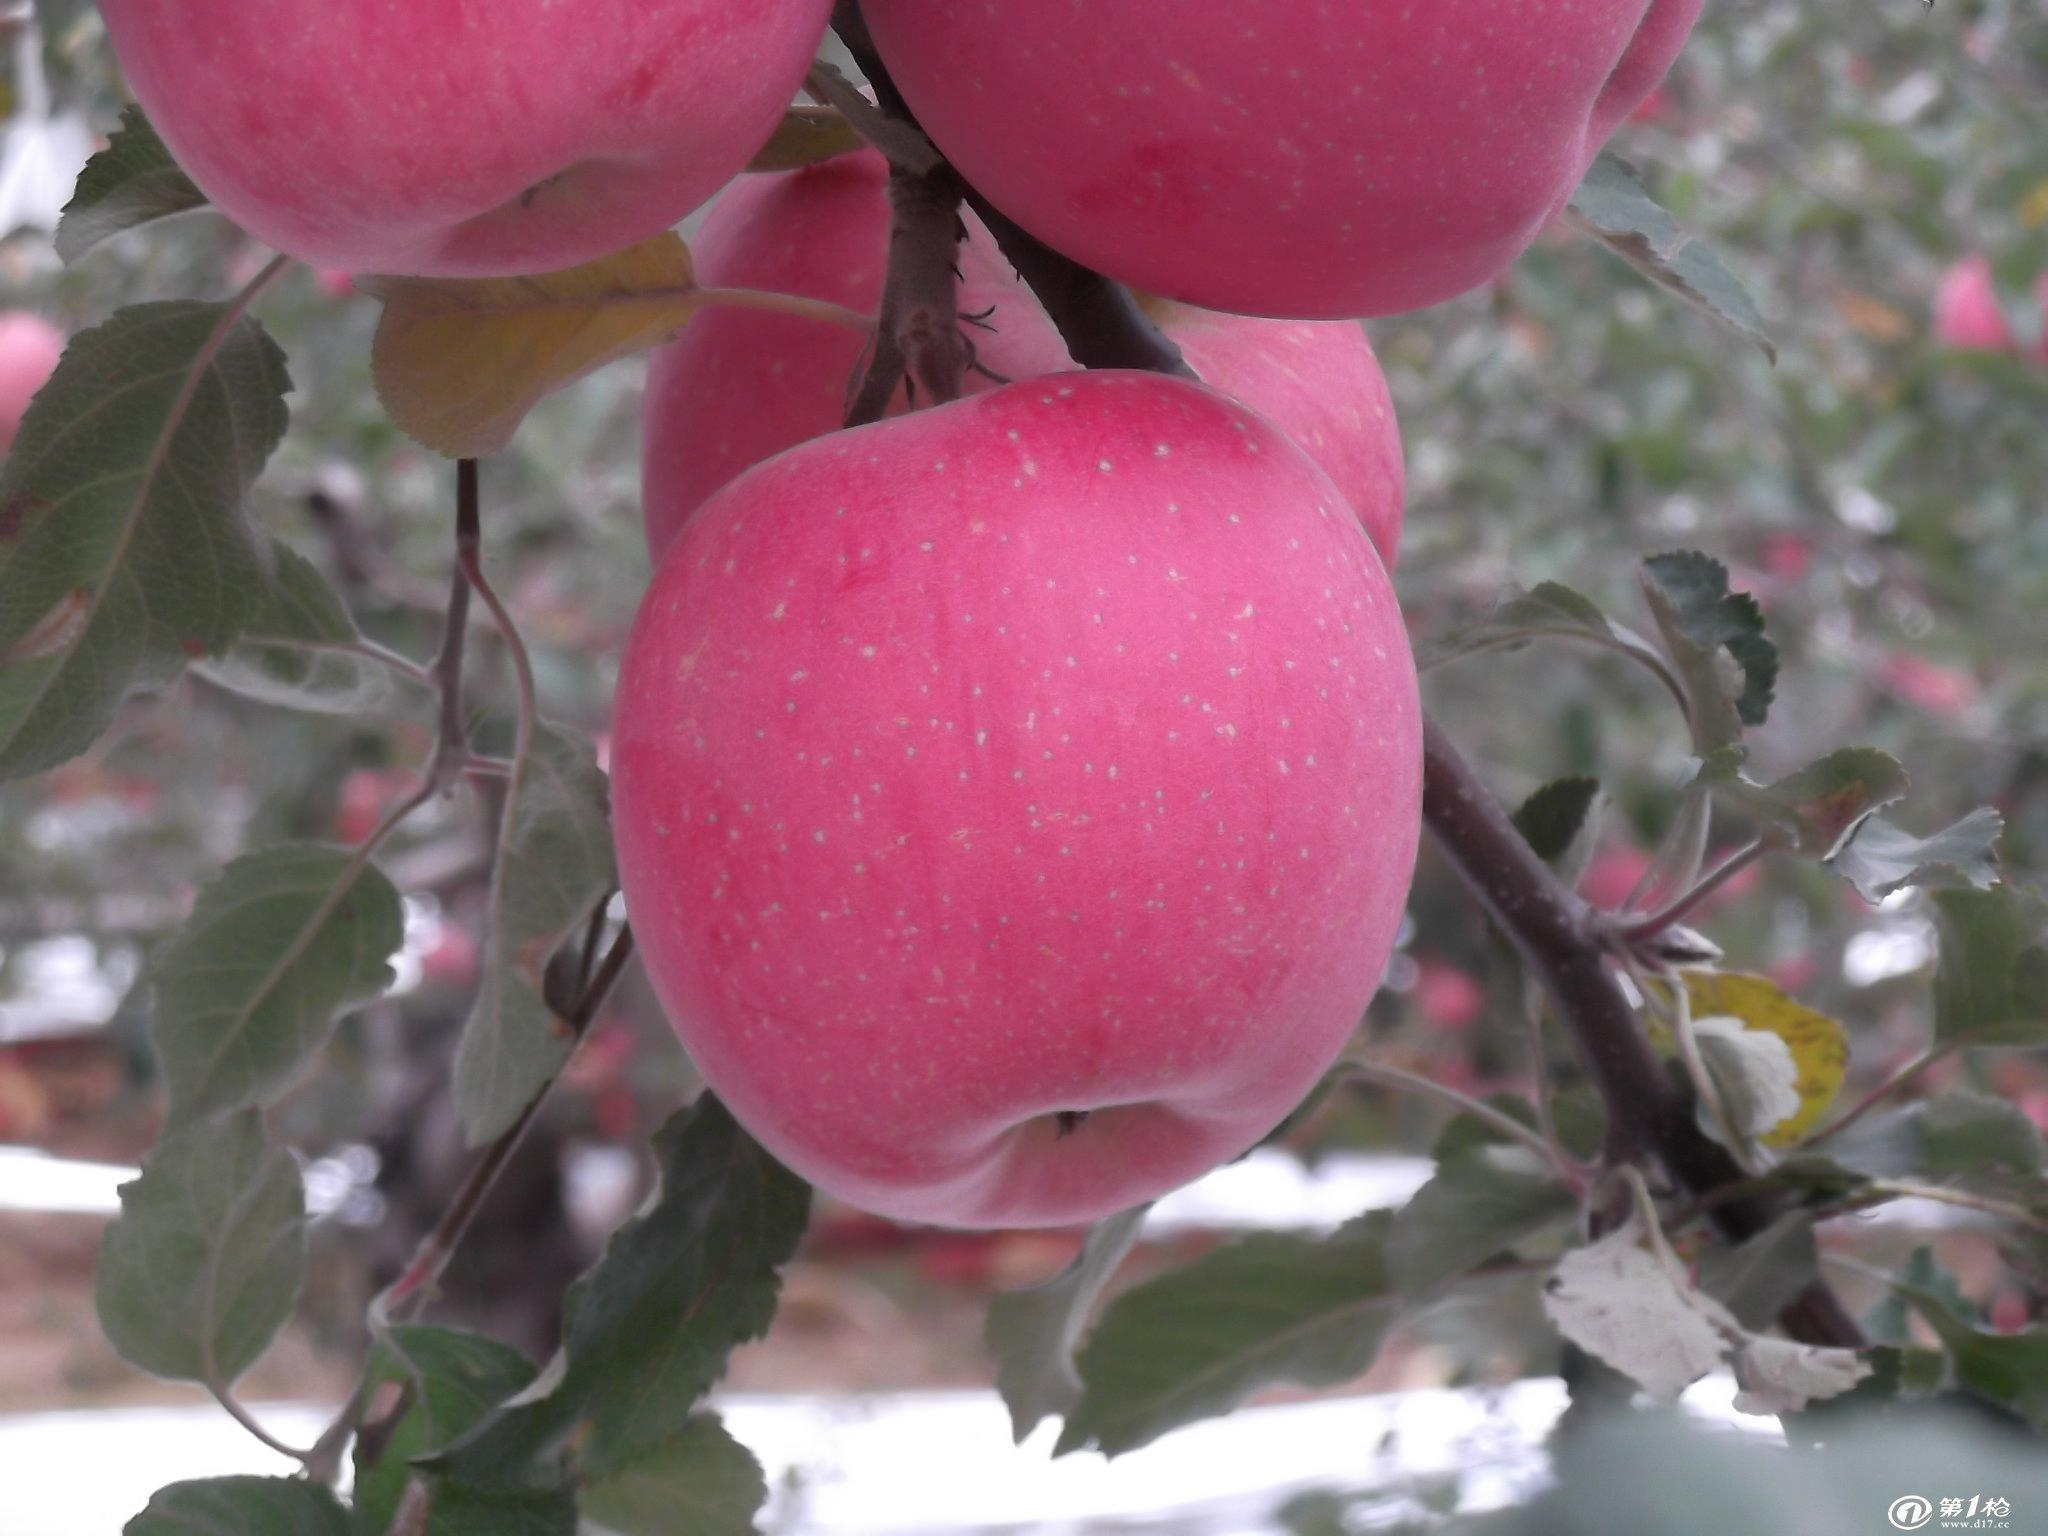apple: (608, 376, 1435, 1233), (863, 2, 1671, 311)
